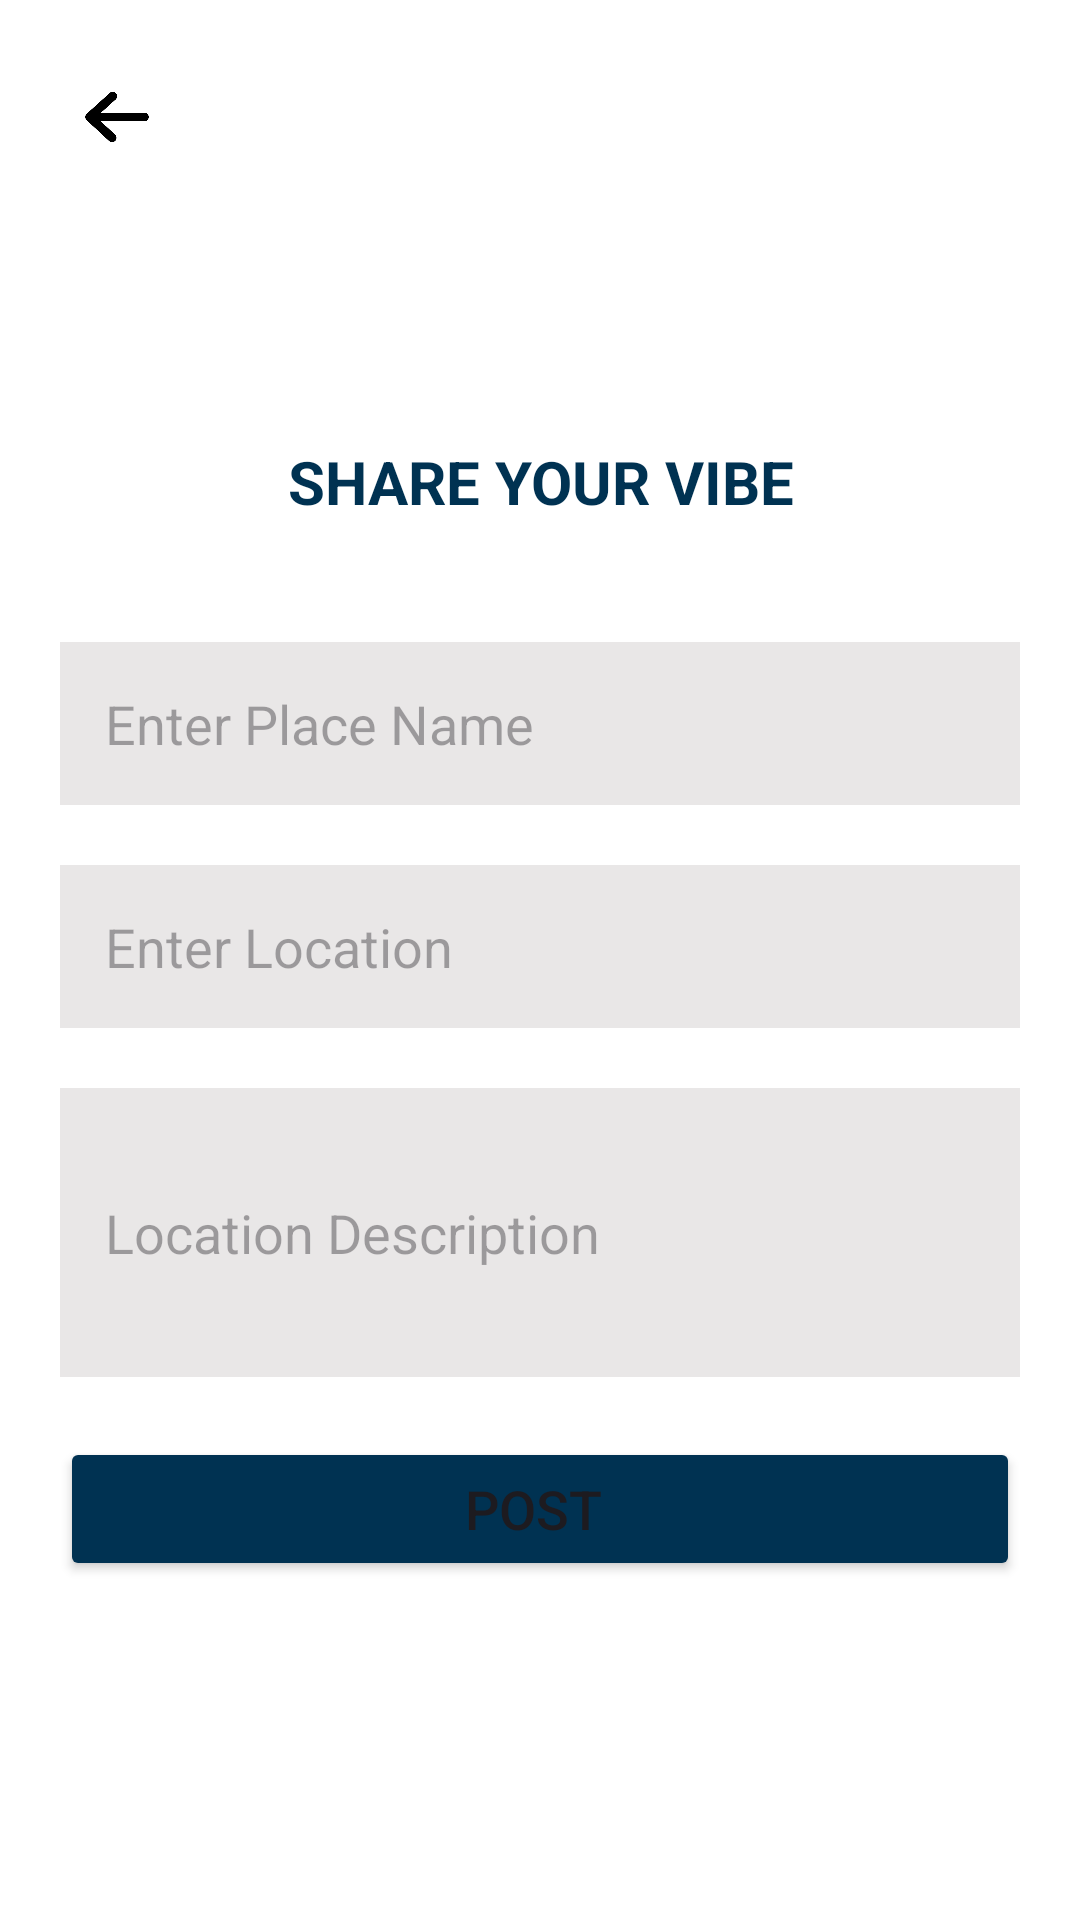

Screen size 1080×1920. Icon name, then its box in pixels as (x1, y1, x2, y2):
back: (85, 92, 149, 142)
